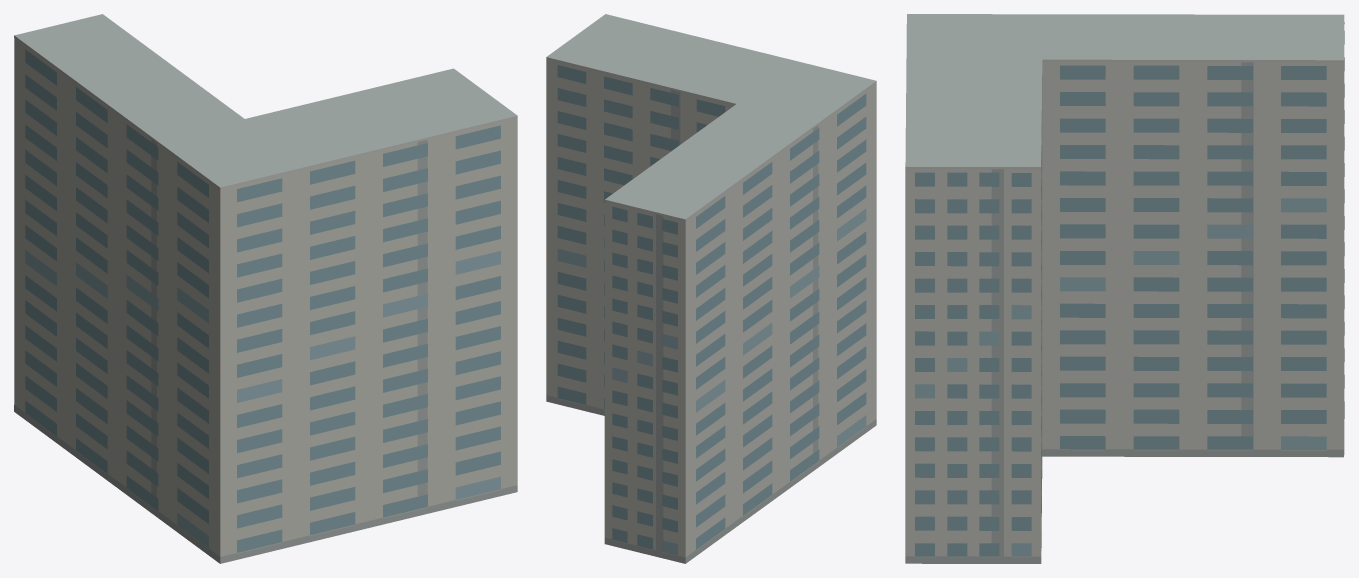
The model's file is residential-ecac27e5-2e49-48da-a79e-793d32dc7aec.glb.
3 renders of one model, left to right at view 1: azimuth 30°, elevation 25°; view 2: azimuth 150°, elevation 25°; view 3: azimuth 270°, elevation 25°, orthographic. The views are drawn at different scales.
Parts seen in each view (by area): view 1: residential-ecac27e5-2e49-48da-a79e-793d32dc7aec.tmp; view 2: residential-ecac27e5-2e49-48da-a79e-793d32dc7aec.tmp; view 3: residential-ecac27e5-2e49-48da-a79e-793d32dc7aec.tmp.
Boxes of the visible parts, x1,y1,x2,y2 form: residential-ecac27e5-2e49-48da-a79e-793d32dc7aec.tmp: (14, 14, 517, 563); residential-ecac27e5-2e49-48da-a79e-793d32dc7aec.tmp: (546, 14, 876, 563); residential-ecac27e5-2e49-48da-a79e-793d32dc7aec.tmp: (905, 14, 1344, 563).
Size of the model in its own units: 35.56 by 43 by 43.12.
